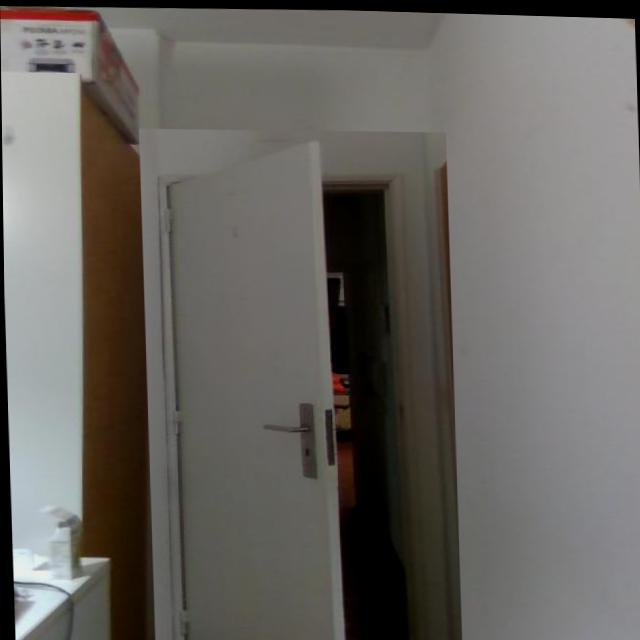semi-open: (137, 122, 462, 639)
